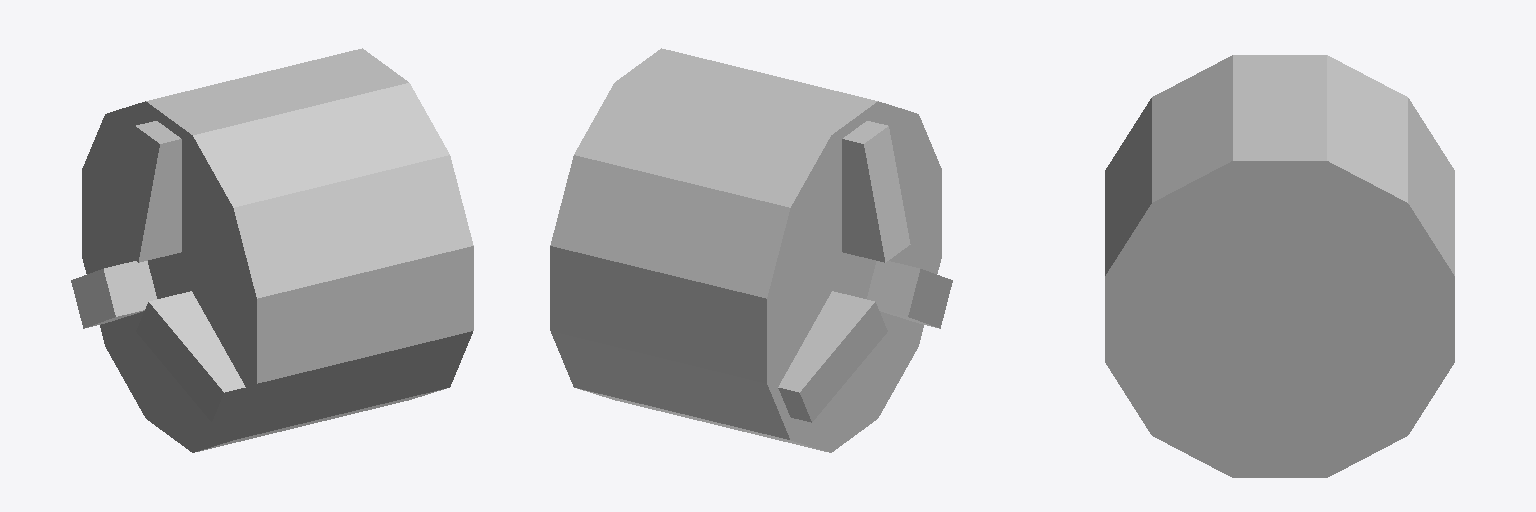
The model's file is lathe_holder_mirrored.obj.
3 renders of one model, left to right at view 1: azimuth 30°, elevation 25°; view 2: azimuth 150°, elevation 25°; view 3: azimuth 270°, elevation 25°, orthographic.
Parts seen in each view (by area): view 1: cylinder, cube; view 2: cylinder, cube; view 3: cylinder.
Boxes of the visible parts, <box> form: cylinder: <box>82,48,473,452</box>; cube: <box>71,121,245,422</box>; cylinder: <box>550,48,941,452</box>; cube: <box>778,121,952,422</box>; cylinder: <box>1105,55,1454,477</box>.
Bounding box in the file's own units: 0.375 × 0.4375 × 0.4375.